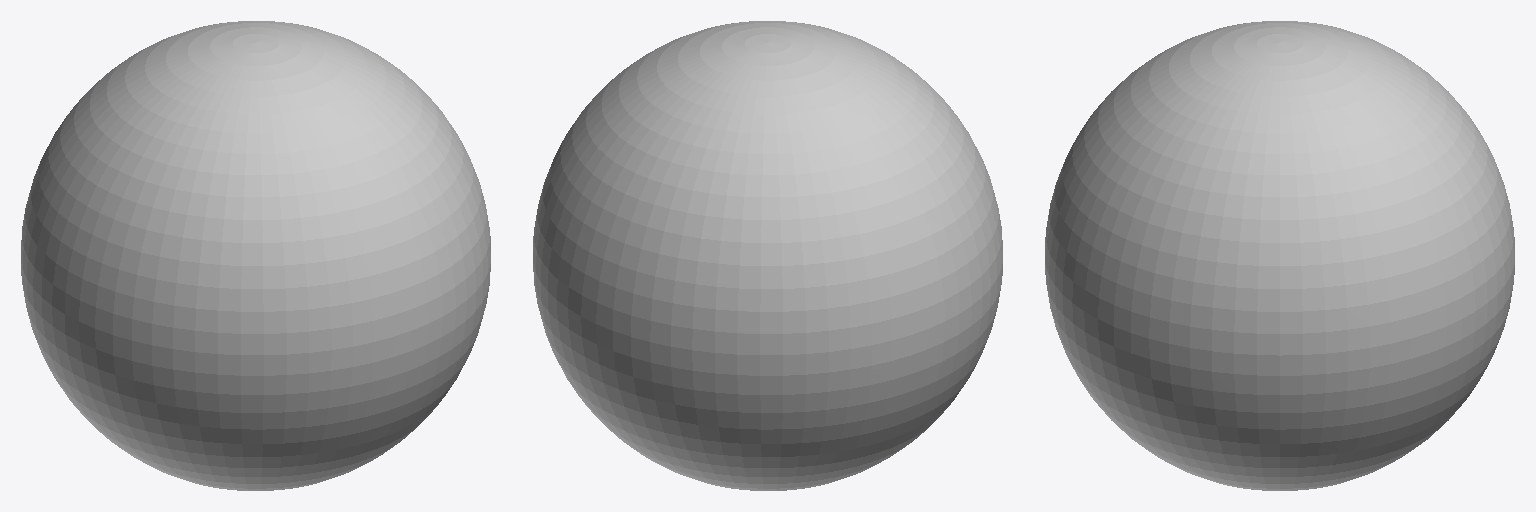
Rendered from SphereHD.obj.
The picture shows the model from 3 angles: view 1: azimuth 30°, elevation 25°; view 2: azimuth 150°, elevation 25°; view 3: azimuth 270°, elevation 25°; orthographic projection.
Parts seen in each view (by area): view 1: Sphere001; view 2: Sphere001; view 3: Sphere001.
Part boxes in pixels (left/top/right/bottom): Sphere001: left=21, top=21, right=490, bottom=490; Sphere001: left=533, top=21, right=1002, bottom=490; Sphere001: left=1045, top=21, right=1514, bottom=490.
Size of the model in its own units: 39.37 by 39.37 by 39.37.